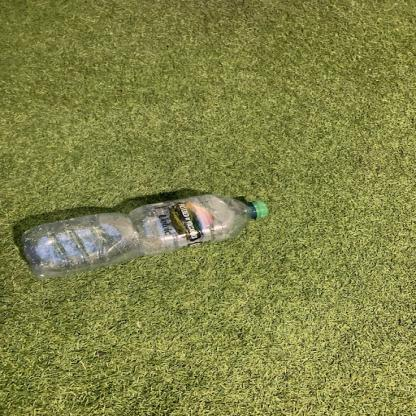trash: (16, 193, 270, 280)
